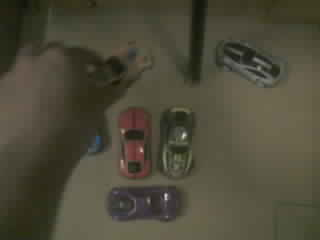Car: (216, 40, 280, 86), (89, 44, 152, 86), (107, 186, 179, 220), (160, 107, 194, 177), (120, 107, 152, 178), (88, 130, 103, 152)
